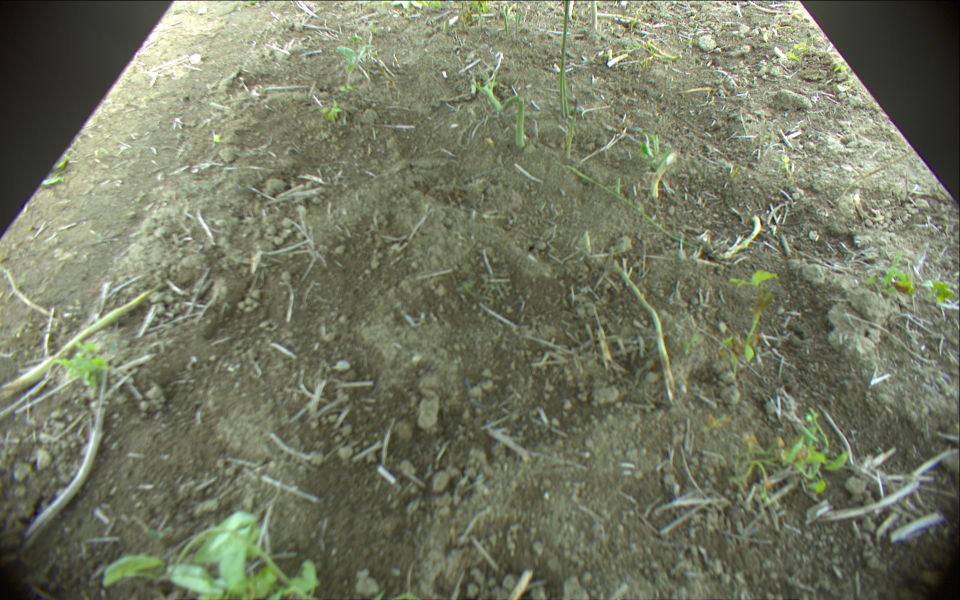aspa: (2, 284, 157, 402), (567, 166, 708, 254), (610, 268, 681, 397), (479, 72, 525, 150), (560, 1, 572, 116), (592, 1, 599, 31), (513, 9, 520, 34), (505, 8, 510, 34)
